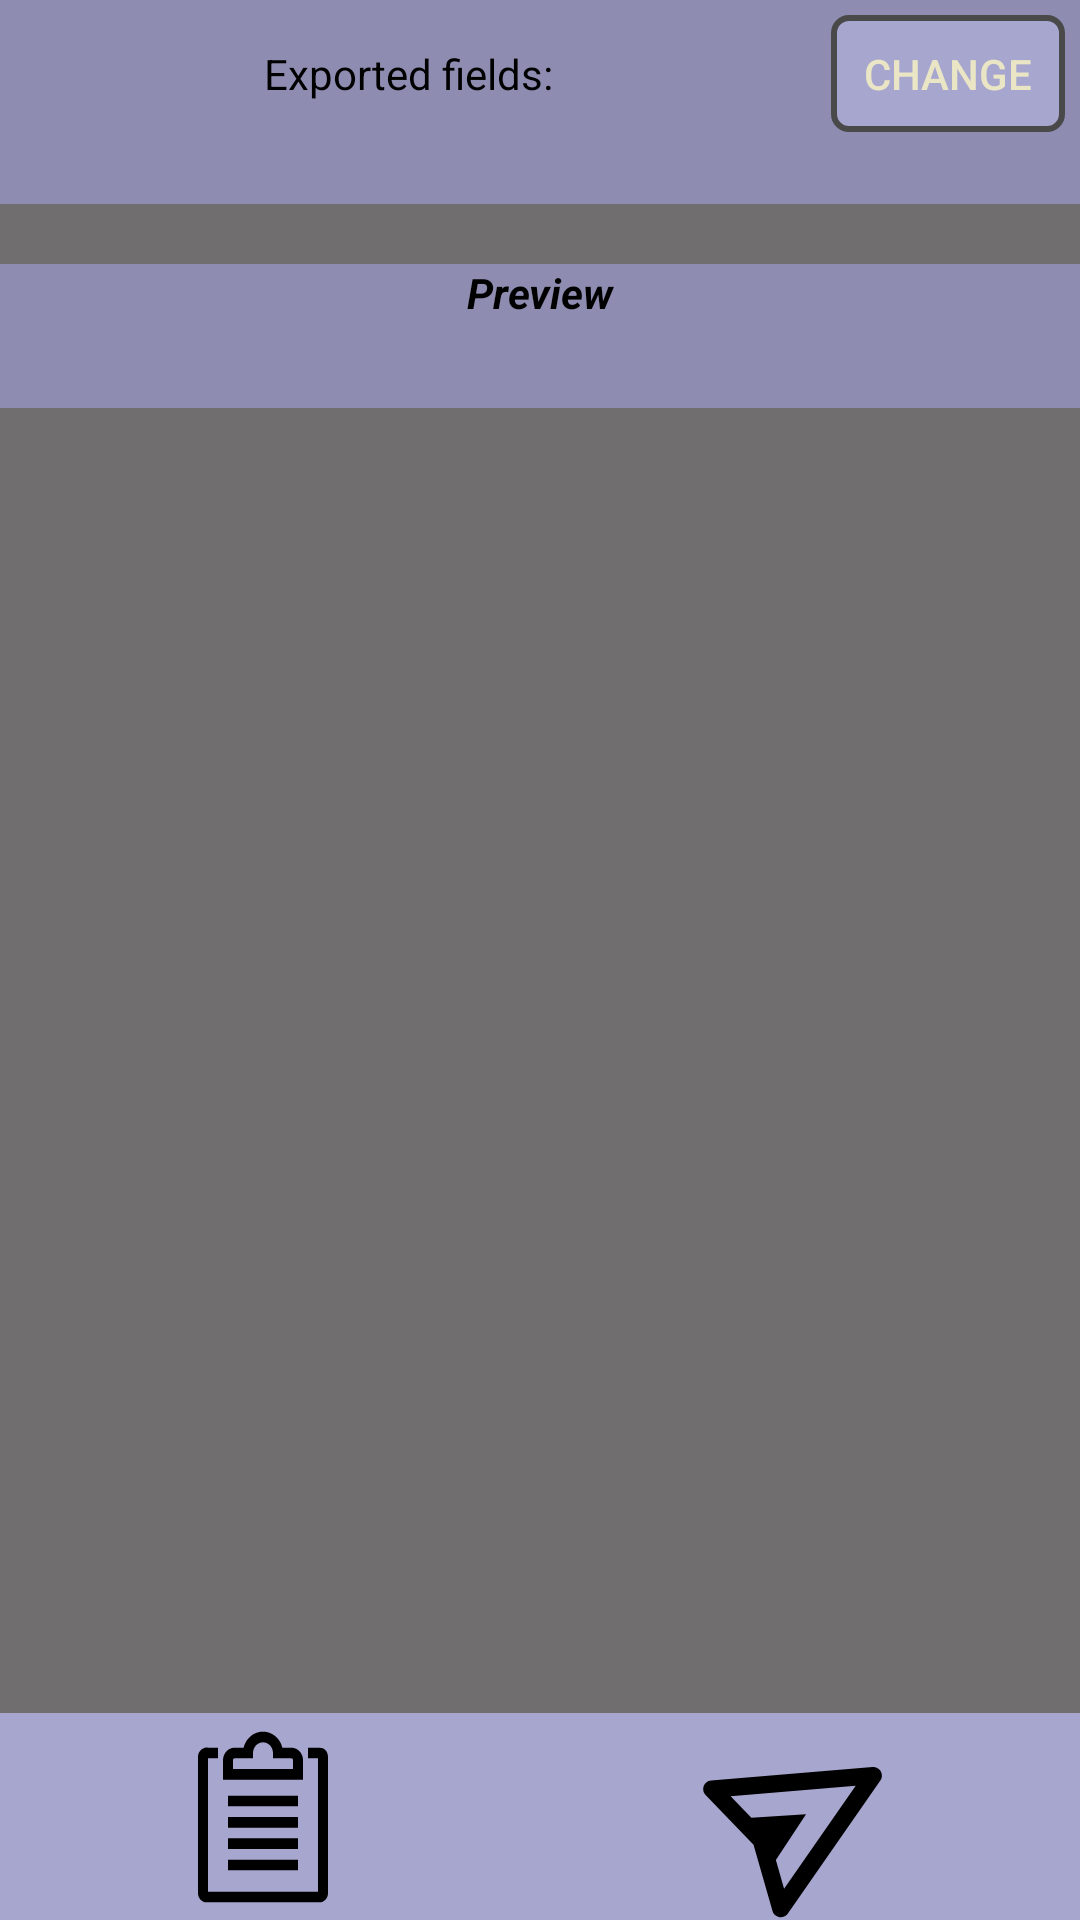

Icons on this 1080*1920 Android screen, each with the point to tap as (x,y):
clipboard: (263,1817)
send: (792,1842)
